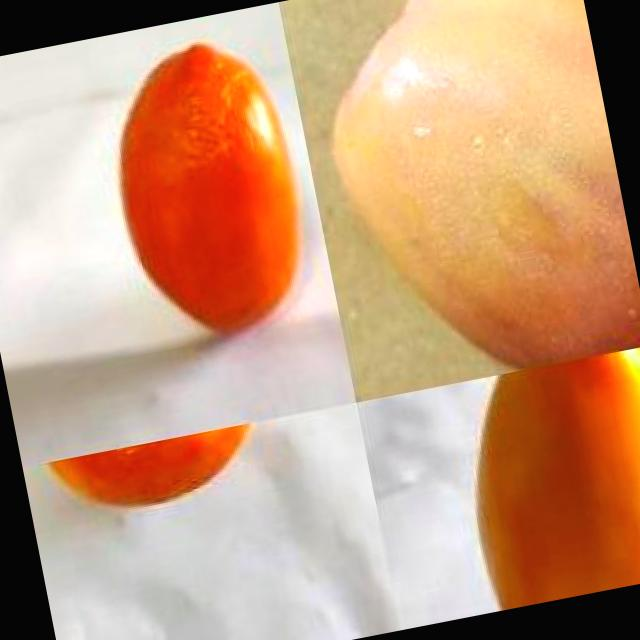Fresh_Tomato: (292, 0, 640, 400), (439, 345, 640, 614)
Rotten_Tomato: (88, 24, 331, 358), (37, 418, 300, 580)
